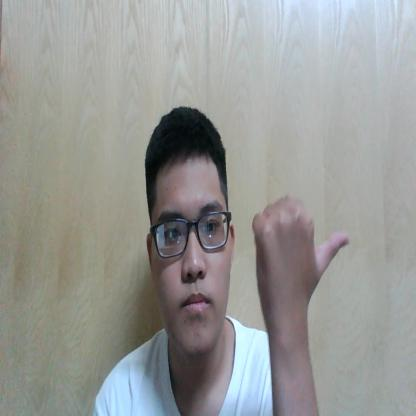left: (250, 188, 350, 315)
